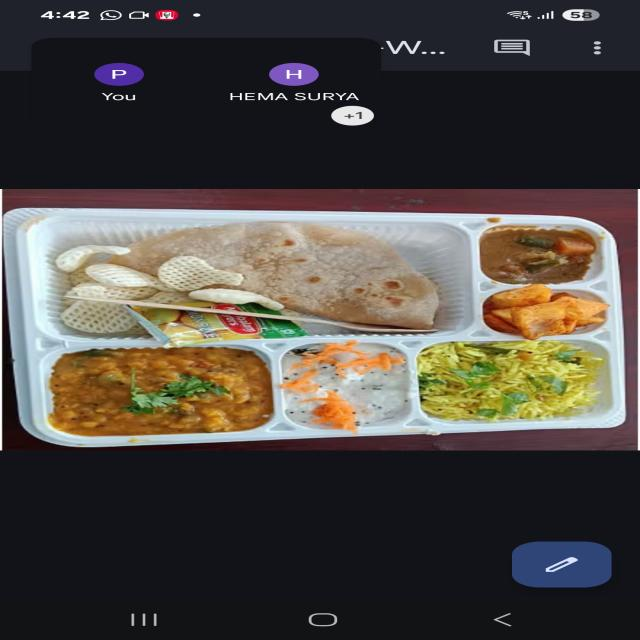BIRIYANI: (415, 340, 614, 424)
CHAPATHI: (139, 222, 440, 330)
CURD RICE: (284, 342, 418, 432)
CURRY: (484, 285, 613, 340)
KURMA: (479, 225, 601, 288)
PAPADAM: (56, 242, 319, 335)
SAMBAR RICE: (51, 345, 277, 447)
